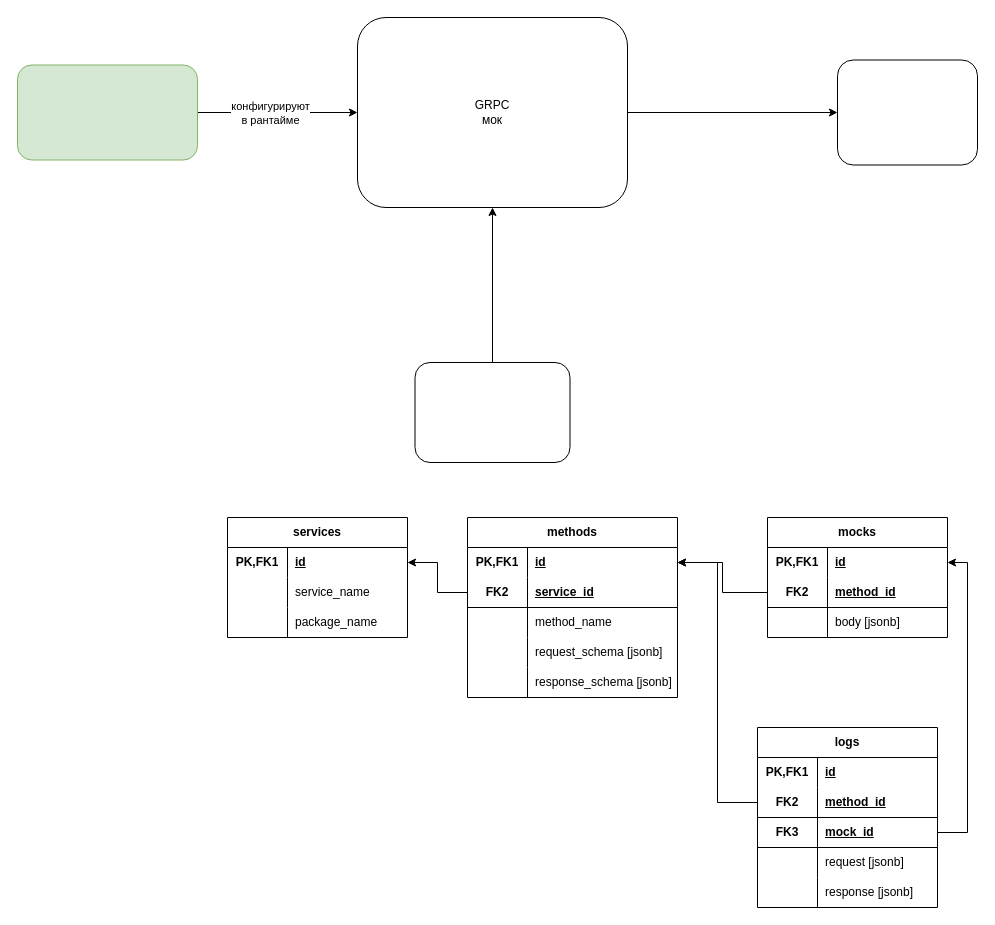
Image size: 995x925. Some labels were removed from this diagram. The shapes that lost their labels are listed below. From the top down, each one's centre as x and y in pixels, then its label:
the point at 107,112: протофайл
the point at 907,112: журнал запросов (JSON): - запрос (с таймстемпом) - ответ
the point at 492,412: клиенты GRPC
